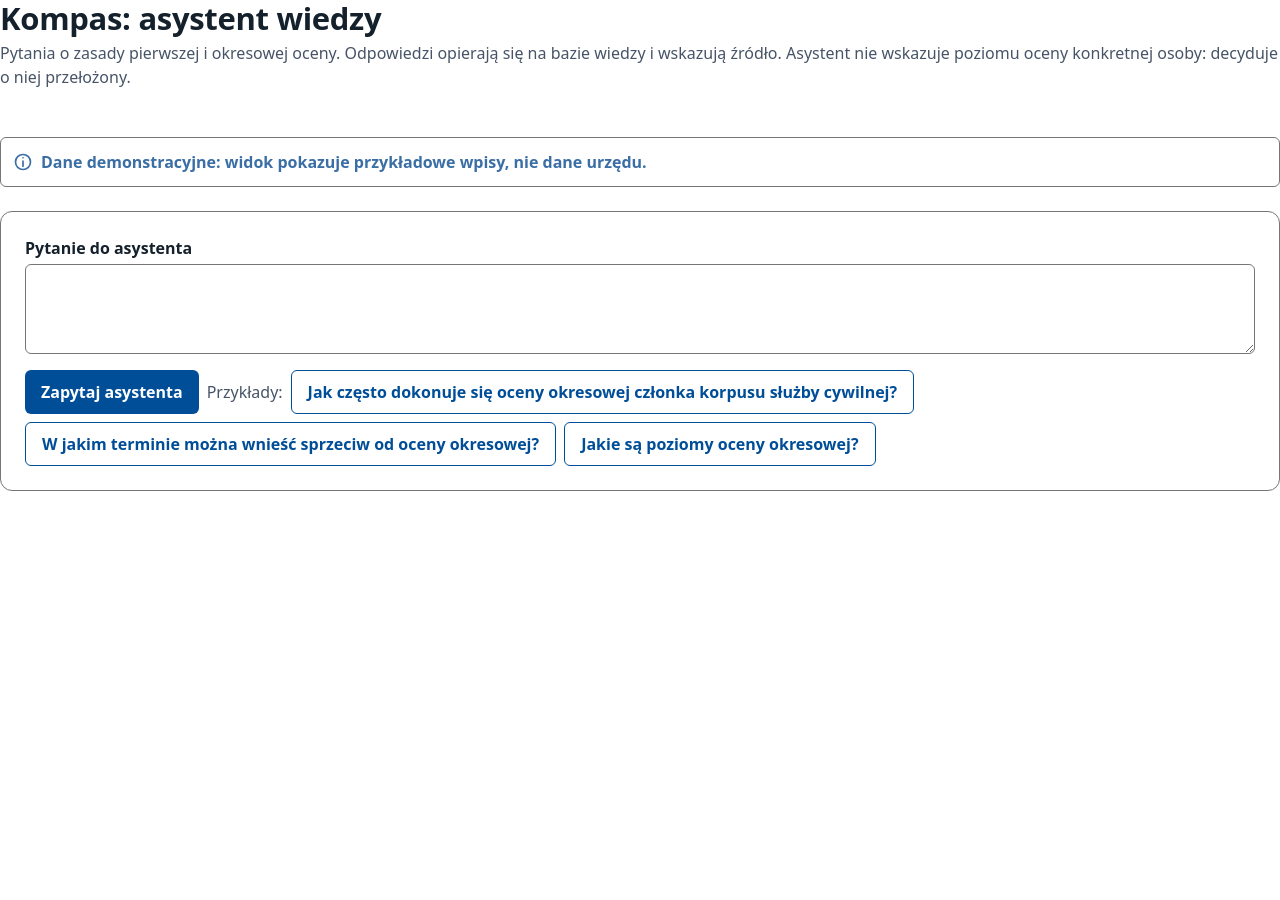
Test: AssistantPage › does not link to the document for an employee
Type "Pytanie o termin" into the text box labelled "Pytanie do asystenta" at coordinates (640, 309), box [25,264,1255,354]
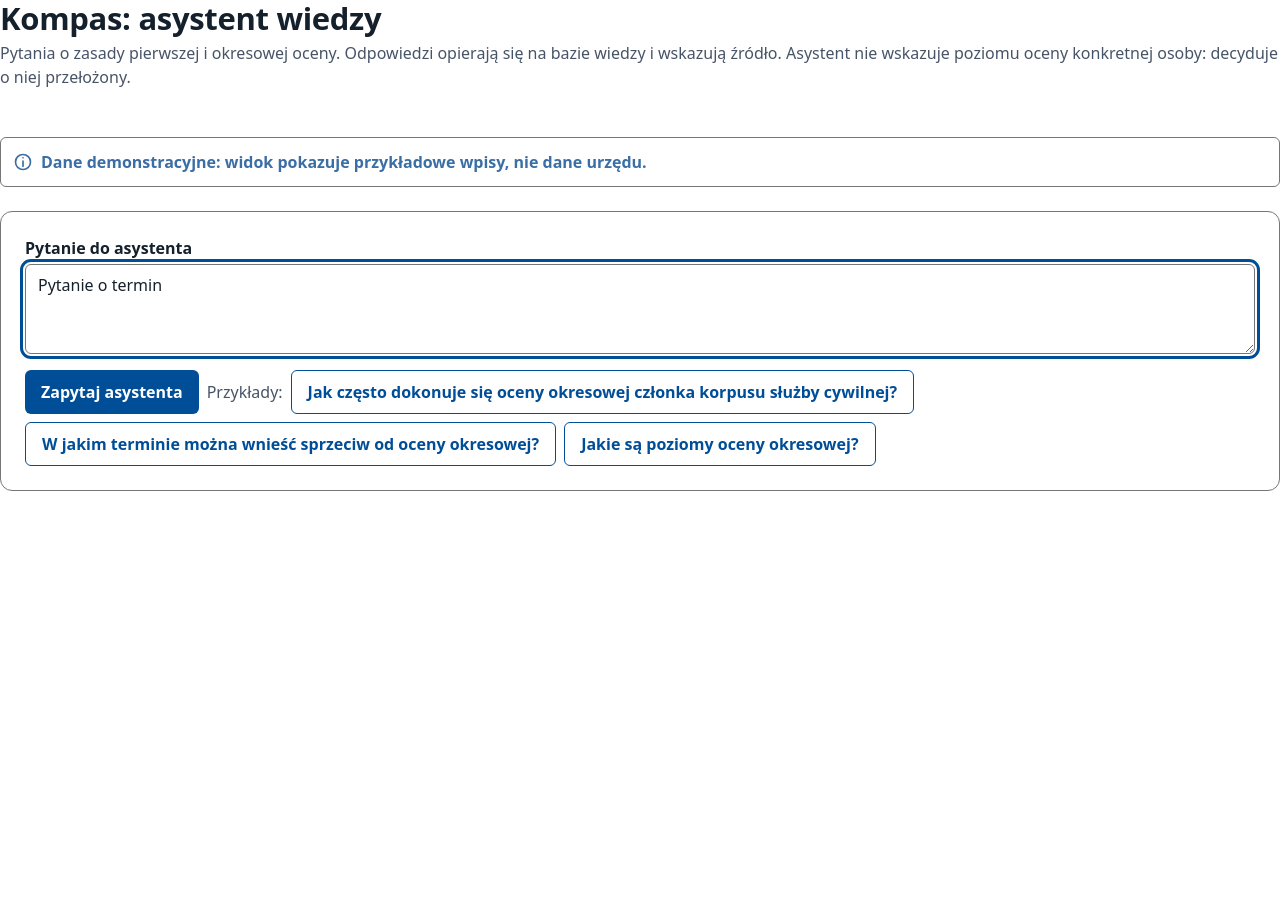
Click the button "Zapytaj asystenta" at coordinates (112, 392), box [25,370,199,414]
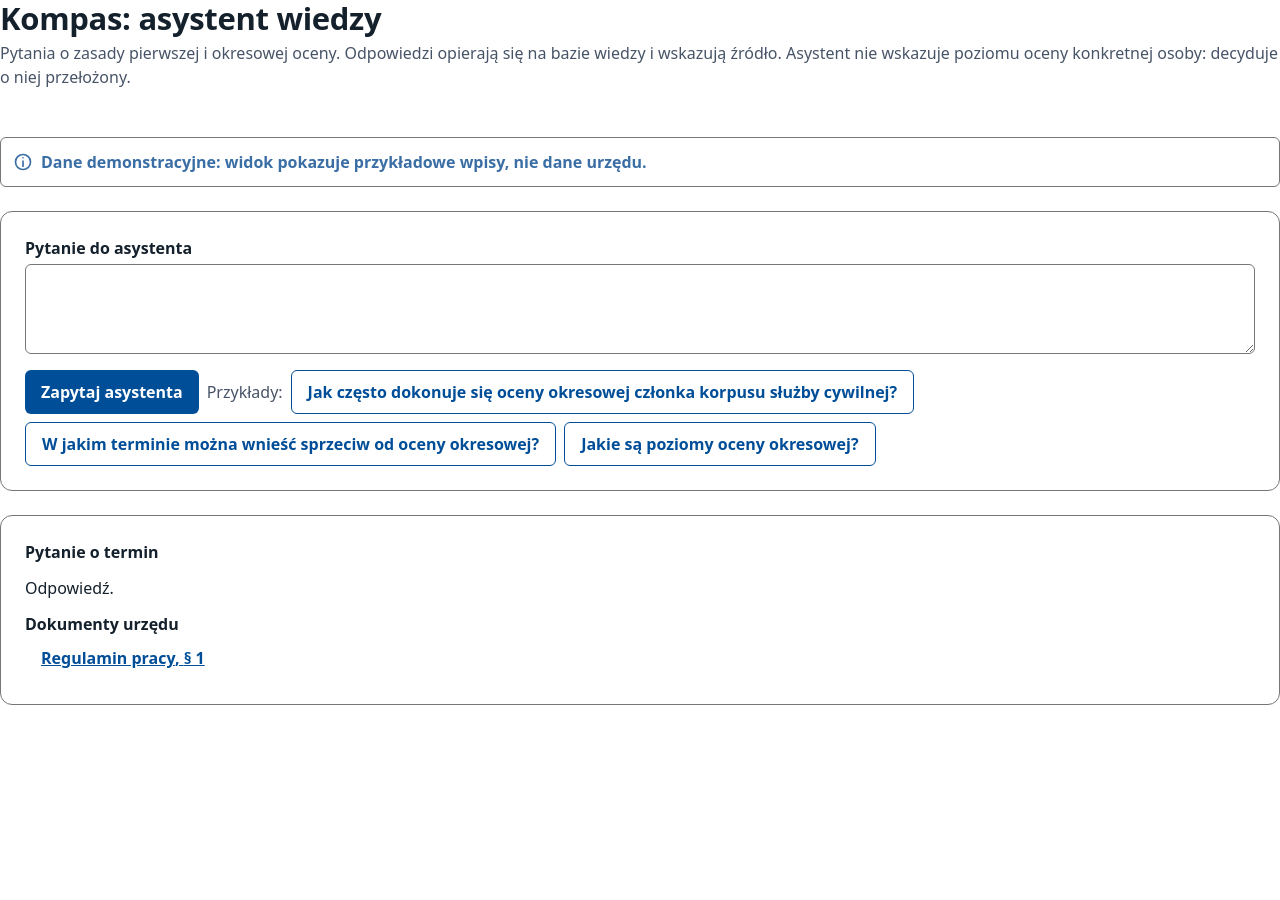
Click the button "Regulamin pracy, § 1" at coordinates (123, 658), box [25,636,221,680]
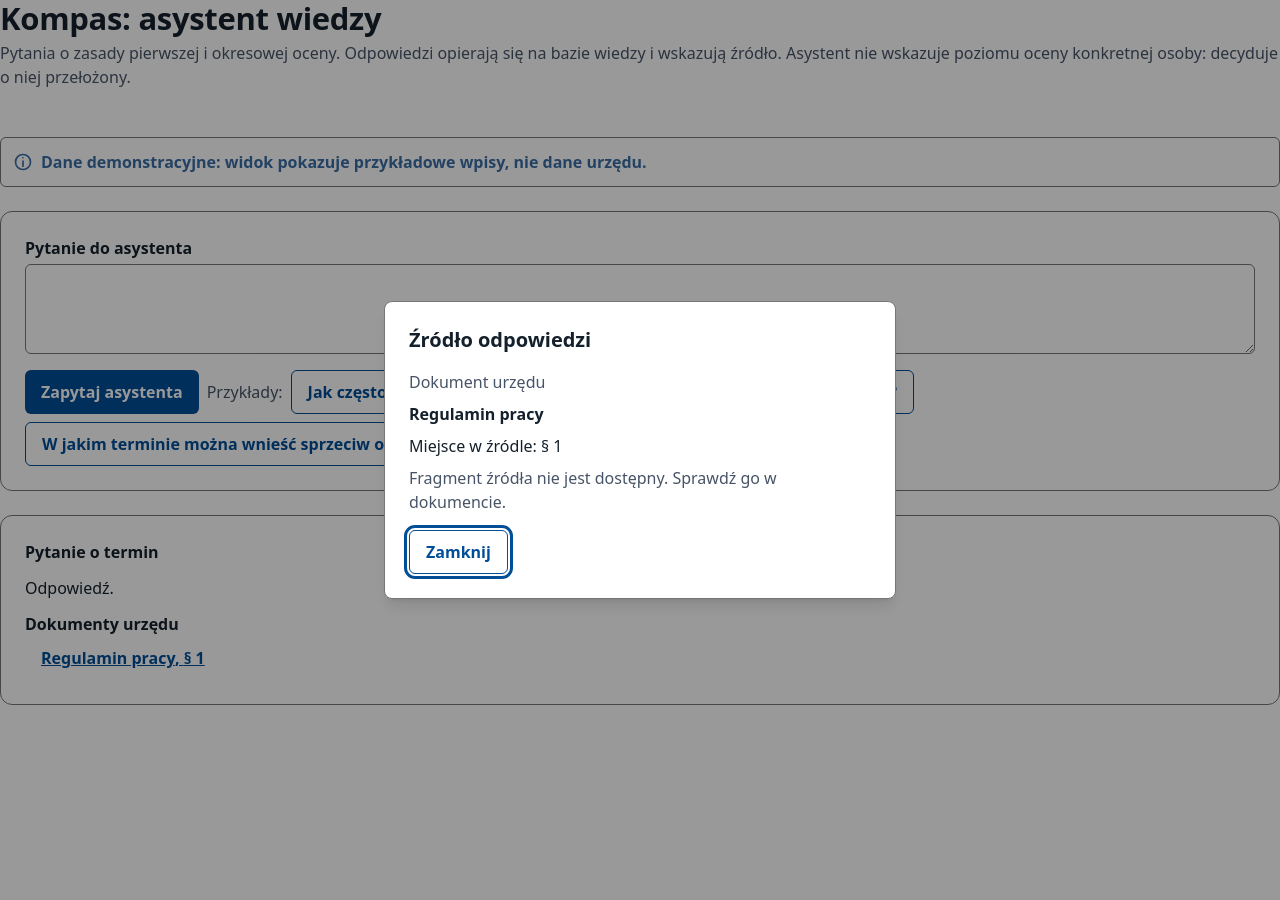
Check: the text "Fragment źródła nie jest dostępny. Sprawdź go w dokumencie." is shown, box [409,467,777,513]
